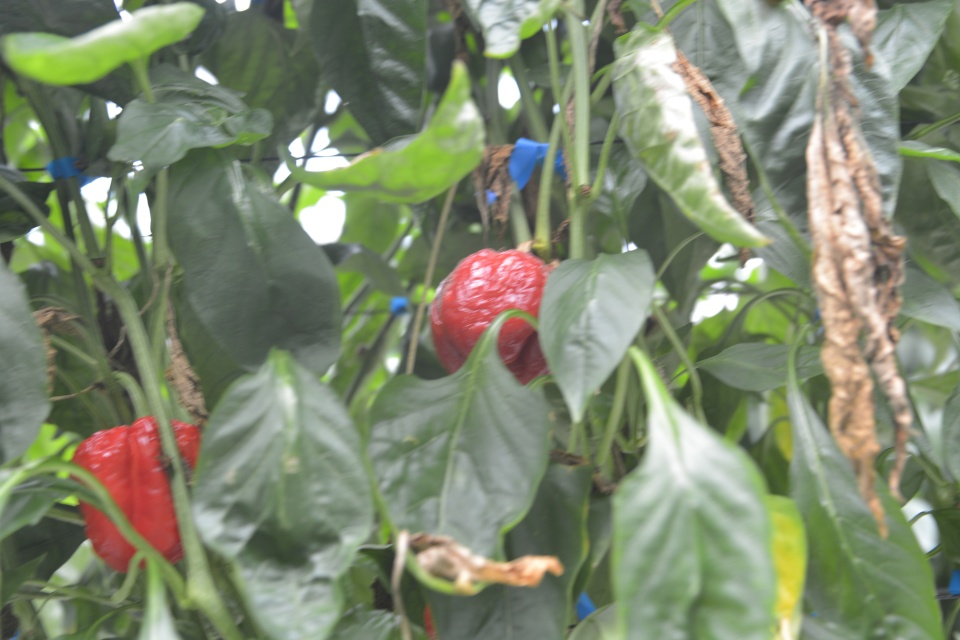fruit: (67, 412, 203, 576), (425, 245, 560, 388)
